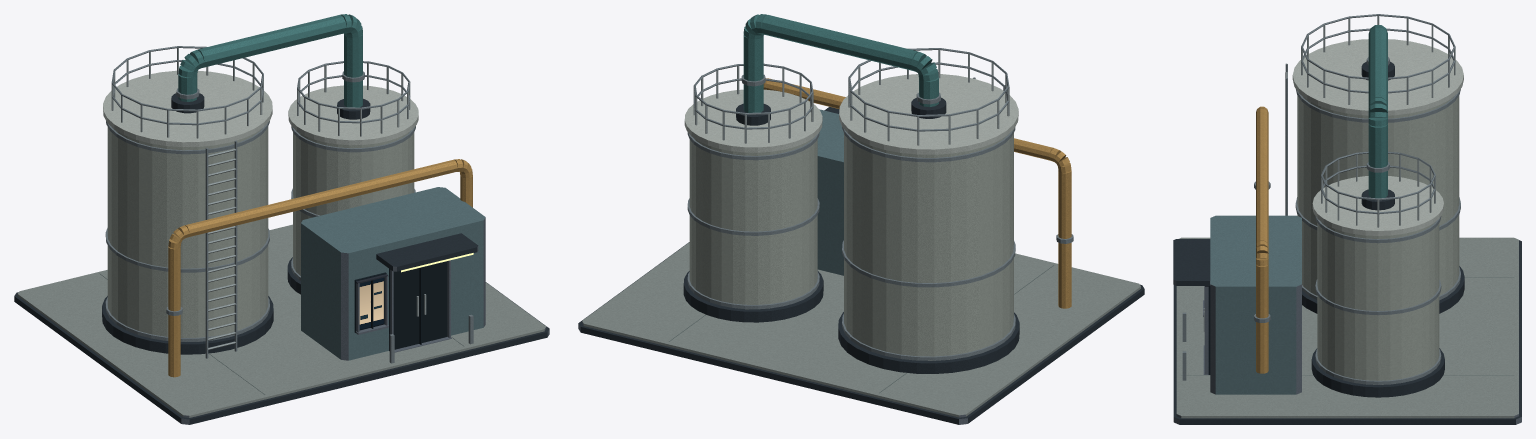
Rendered from 04-lab-annex-01.glb.
3 renders of one model, left to right at view 1: azimuth 30°, elevation 25°; view 2: azimuth 150°, elevation 25°; view 3: azimuth 270°, elevation 25°, orthographic. The views are drawn at different scales.
Visible parts, largest first — view 1: lab_architecture; view 2: lab_architecture; view 3: lab_architecture.
Part boxes in pixels (bbox=[...]): lab_architecture: bbox=[14, 14, 549, 424]; lab_architecture: bbox=[578, 14, 1144, 424]; lab_architecture: bbox=[1173, 14, 1521, 424].
Size of the model in its own units: 14 by 9.9 by 11.42.
2 materials, 2 textured.
